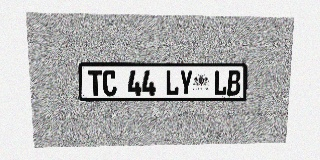4: (128, 70, 142, 96), (142, 70, 156, 96)
B: (227, 70, 241, 95)
C: (103, 70, 117, 96)
L: (165, 70, 179, 96), (214, 70, 228, 95)
T: (88, 70, 103, 96)
Y: (179, 70, 193, 96)
